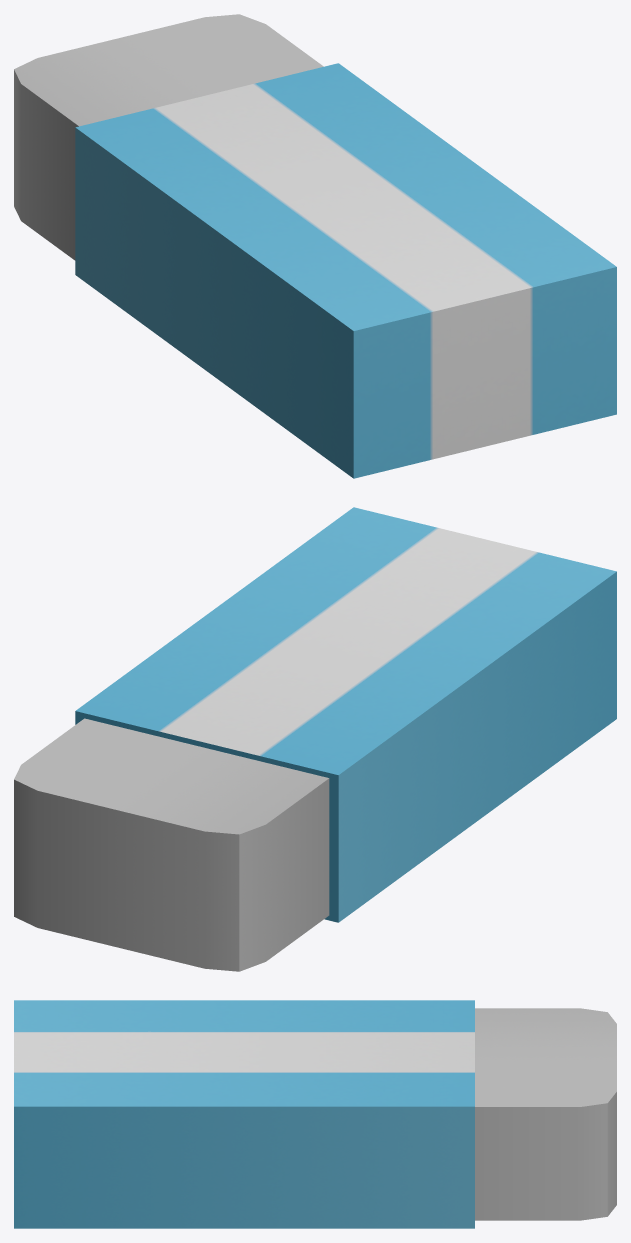
Rendered from L2_Eraser.fbx.
3 renders of one model, top to bottom at view 1: azimuth 30°, elevation 25°; view 2: azimuth 150°, elevation 25°; view 3: azimuth 270°, elevation 25°, orthographic. The views are drawn at different scales.
Visible parts, largest first — view 1: Box002; view 2: Box002; view 3: Box002.
Part boxes in pixels (x1=…): Box002: x1=14, y1=14, x2=616, y2=478; Box002: x1=14, y1=507, x2=616, y2=971; Box002: x1=14, y1=1000, x2=616, y2=1228.
Size of the model in its own units: 2.09 by 1.12 by 5.01.
Materials: 1 (1 with a texture image).
